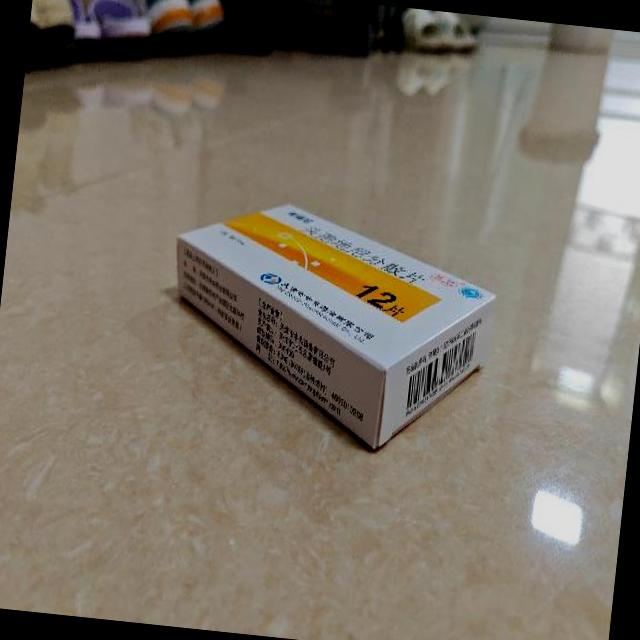box: (156, 190, 505, 460)
